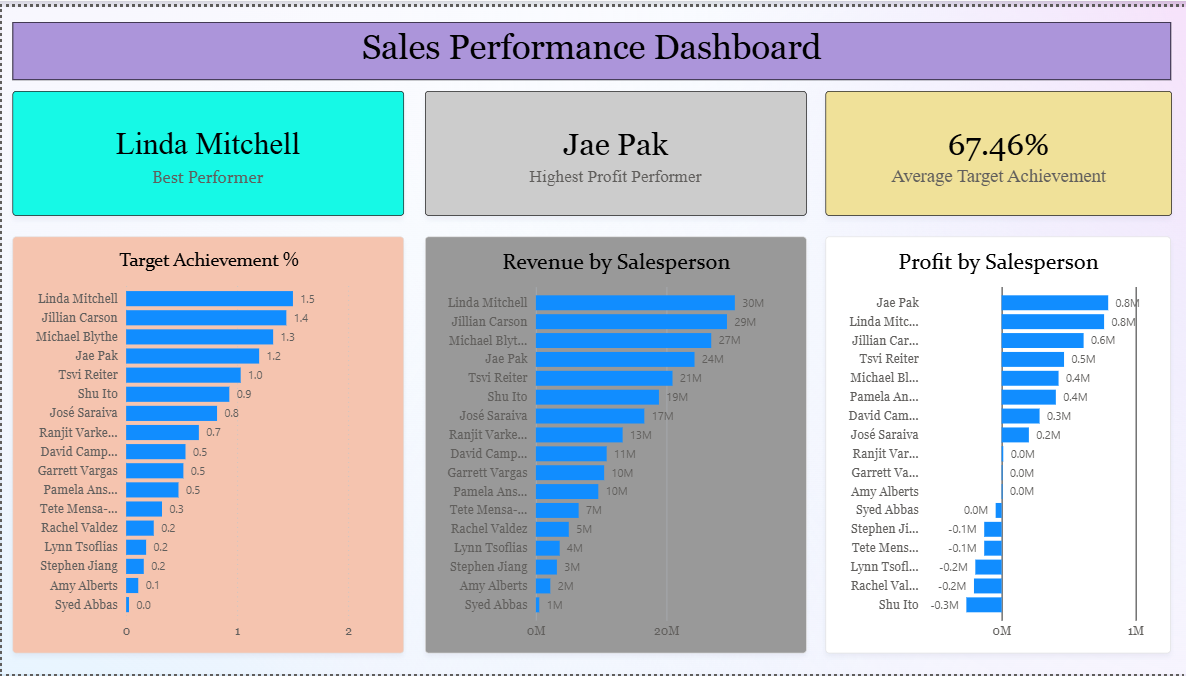

Layout of this report page (visuals, bound fields, positions):
{"tool":"powerbi","page":{"name":"Page 2","canvas":[1280,720],"ordinal":1},"visuals":[{"type":"clusteredBarChart","title":"Revenue by Salesperson","fields":{"Category":["public salesperson.salesperson_name"],"Y":["public product.Revenue by Salesperson"]},"box":[456.9,248.3,412.1,450],"z":0},{"type":"clusteredBarChart","title":"Profit by Salesperson","fields":{"Category":["public salesperson.salesperson_name"],"Y":["public product.Profit by Salesperson"]},"box":[889.7,248.3,372.4,450],"z":1000},{"type":"clusteredBarChart","title":"Target Achievement %","fields":{"Category":["public salesperson.salesperson_name"],"Y":["public product.Target Achievement %"]},"box":[12.1,248.3,422.4,450],"z":2000},{"type":"card","fields":{"Values":["public product.Best Performer"]},"box":[12.1,91.4,422.4,134.5],"z":3000},{"type":"textbox","box":[11.9,16.9,1250.8,62.7],"z":4000},{"type":"card","fields":{"Values":["public product.Highest Profit Performer"]},"box":[456.9,91.4,412.1,134.5],"z":5000},{"type":"card","fields":{"Values":["public product.Average Achievement %"]},"box":[889.7,91.4,374.1,134.5],"z":6000}]}

Visuals, with their boxes in screenshot pixels (x1, y1, x2, y2), scaled from the page's 1280x720 canvas onto the 1186x676 screenshot:
"Revenue by Salesperson" clusteredBarChart: 423,233,805,656
"Profit by Salesperson" clusteredBarChart: 824,233,1169,656
"Target Achievement %" clusteredBarChart: 11,233,403,656
card - public product.Best Performer: 11,86,403,212
textbox: 11,16,1170,75
card - public product.Highest Profit Performer: 423,86,805,212
card - public product.Average Achievement %: 824,86,1171,212
